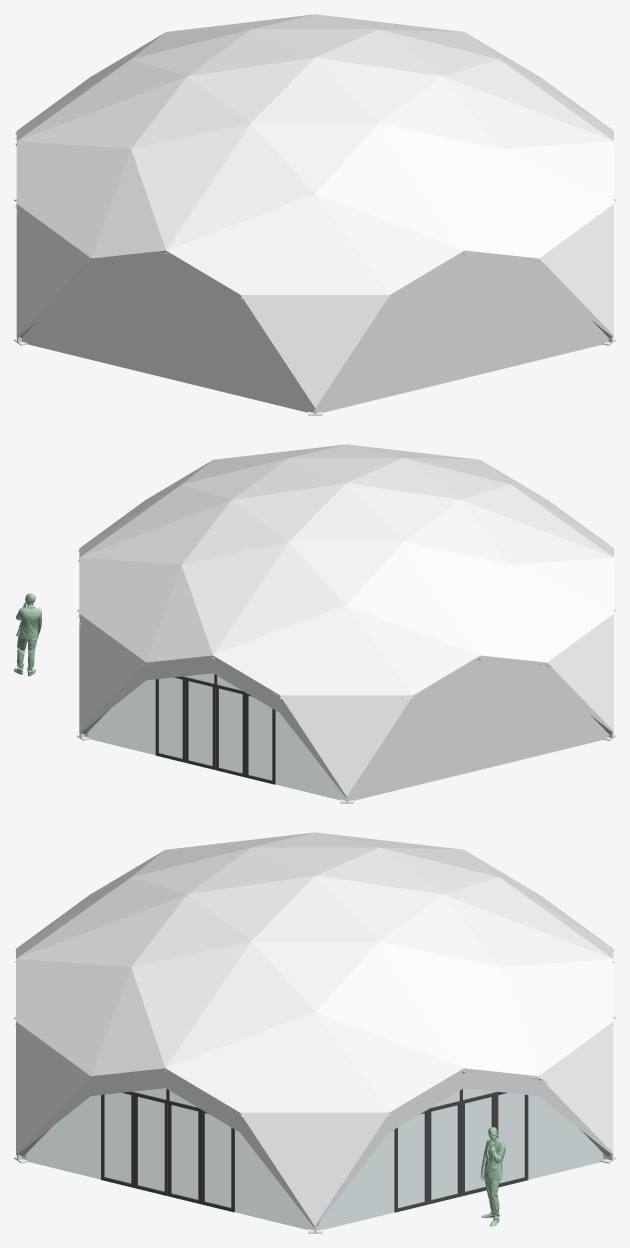
The model's file is hexa95.glb.
The picture shows the model from 3 angles, top to bottom: view 1: azimuth 30°, elevation 25°; view 2: azimuth 150°, elevation 25°; view 3: azimuth 270°, elevation 25°; orthographic projection. The views are drawn at different scales.
Visible parts, largest first — view 1: tent, sidewall-1, sidewall-2, logo-area-4, logo-area-5, logo-area-3; view 2: tent, sidewall-3, windows-1, logo-area-6, logo-area-1, logo-area-5, frame-1, human; view 3: tent, windows-3, windows-2, logo-area-2, logo-area-1, logo-area-3, frame-3, frame-2, human.
Part boxes in pixels (x1,y1,x2,y2): tent: [16, 14, 613, 410]; sidewall-1: [316, 270, 608, 412]; sidewall-2: [21, 270, 314, 412]; logo-area-4: [241, 295, 389, 407]; logo-area-5: [16, 204, 90, 334]; logo-area-3: [539, 204, 613, 334]; tent: [79, 444, 613, 798]; sidewall-3: [347, 673, 608, 800]; windows-1: [85, 673, 345, 800]; logo-area-6: [280, 695, 413, 796]; logo-area-1: [79, 614, 145, 730]; logo-area-5: [547, 614, 613, 730]; frame-1: [155, 674, 275, 784]; human: [14, 593, 41, 676]; tent: [16, 832, 613, 1228]; windows-3: [22, 1088, 314, 1229]; windows-2: [316, 1088, 606, 1229]; logo-area-2: [240, 1112, 388, 1225]; logo-area-1: [539, 1022, 613, 1152]; logo-area-3: [16, 1022, 90, 1152]; frame-3: [101, 1089, 234, 1212]; frame-2: [394, 1089, 528, 1212]; human: [480, 1127, 505, 1226].
Bounding box in the file's own units: 128 × 43.55 × 111.
